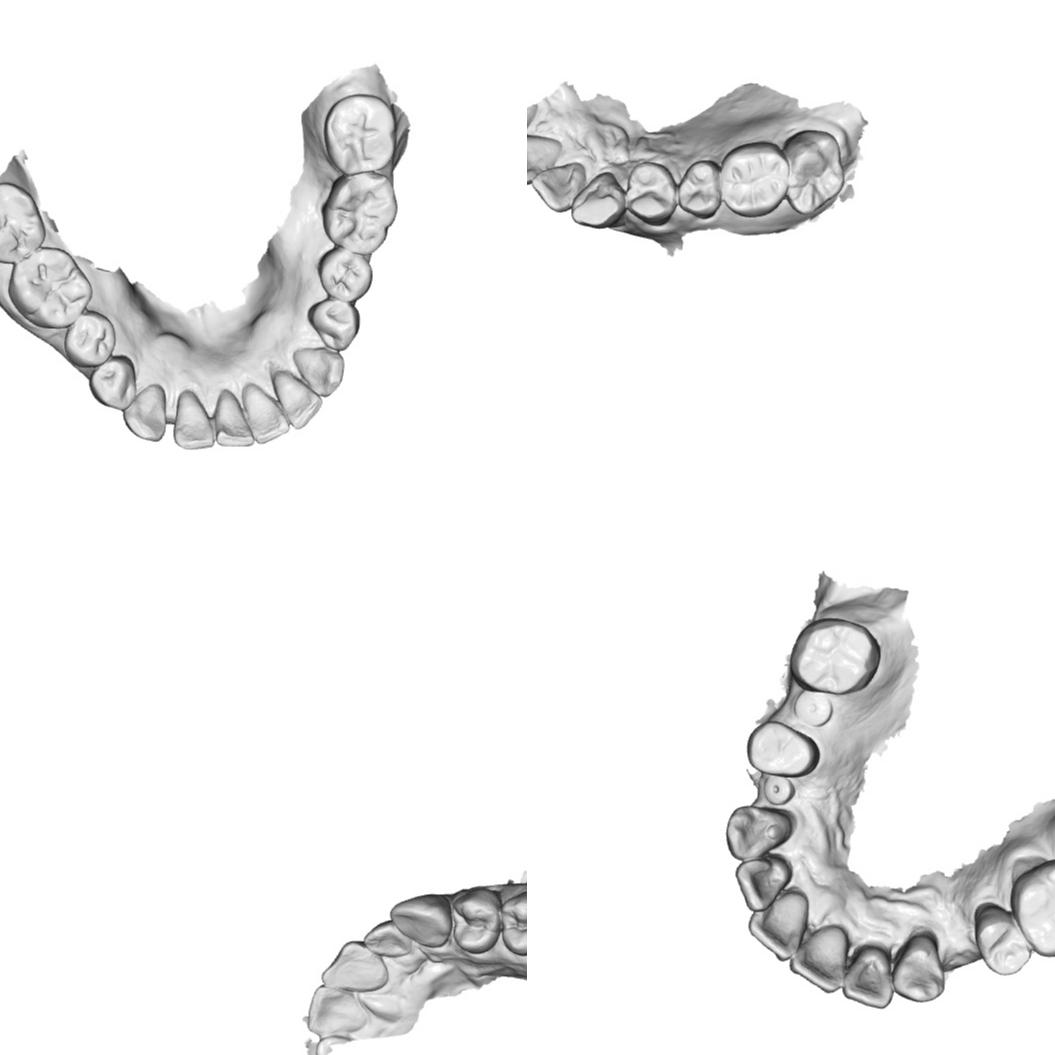canine: (724, 804, 793, 861), (892, 934, 946, 1004), (568, 171, 631, 230), (388, 892, 452, 949), (119, 381, 172, 443), (290, 342, 346, 400)
implant: (792, 688, 834, 727), (762, 776, 796, 806)
incisor: (746, 890, 810, 962), (788, 924, 849, 994), (319, 938, 391, 993), (304, 982, 371, 1037), (268, 363, 322, 431), (842, 944, 894, 1010), (733, 856, 792, 912), (242, 383, 293, 446), (530, 159, 586, 213), (171, 388, 214, 452), (214, 388, 256, 450), (527, 130, 567, 186), (361, 918, 413, 960)
molar: (789, 616, 881, 695), (4, 249, 94, 327), (323, 95, 402, 173), (716, 142, 793, 222), (781, 132, 848, 223), (324, 172, 395, 253), (1009, 858, 1055, 958), (0, 186, 51, 263)
premolar: (745, 720, 821, 778), (973, 901, 1031, 976), (447, 884, 505, 956), (624, 159, 681, 225), (304, 292, 363, 354), (85, 353, 145, 413), (676, 157, 727, 222), (61, 311, 117, 369), (317, 246, 370, 304), (496, 886, 527, 954)
